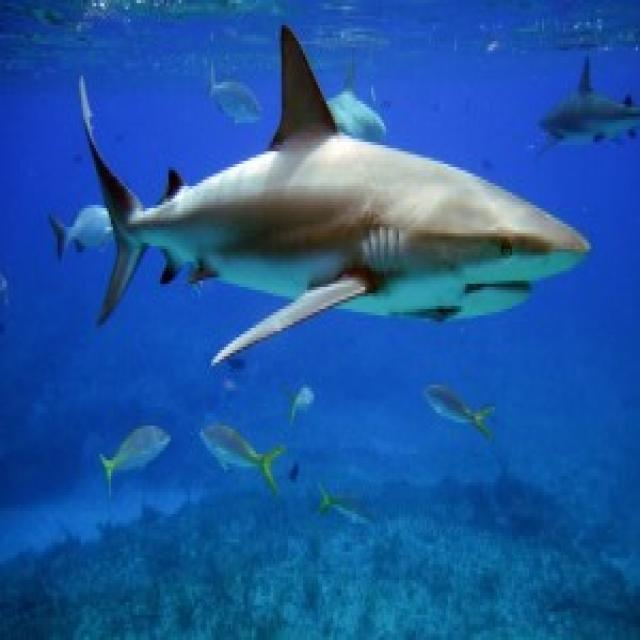Shark: (74, 24, 587, 376), (533, 47, 640, 161)
